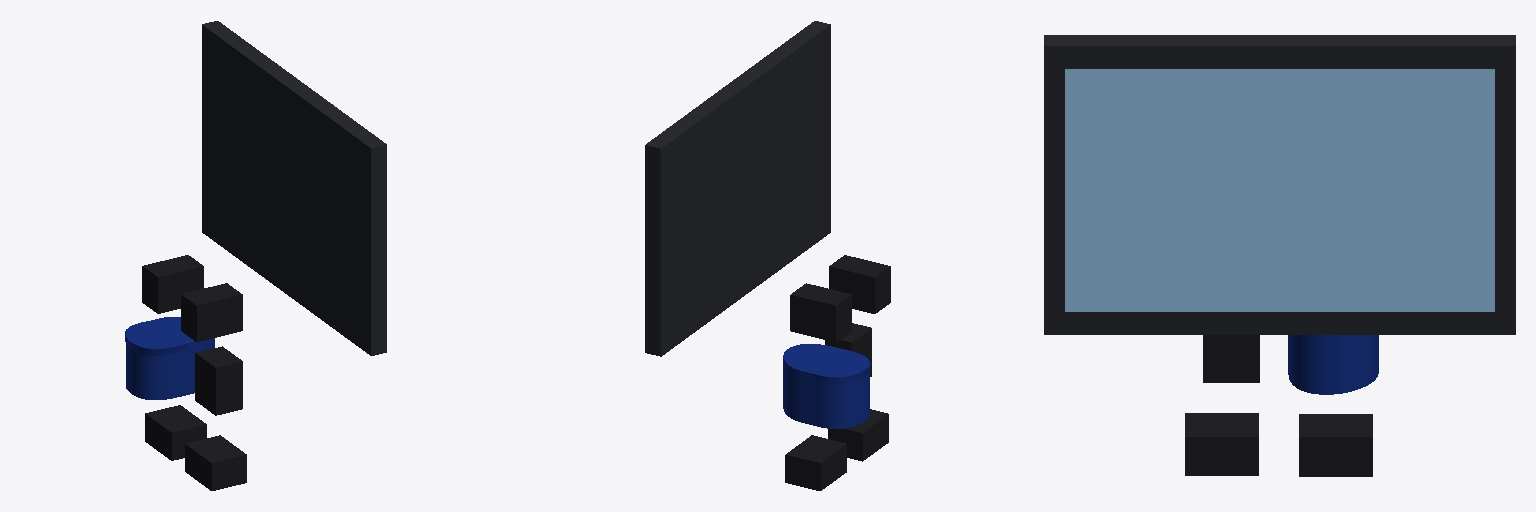
The robot description file, URDF, robot "haetburi":
<?xml version="1.0"?>
<!-- Haetburi biped (v15_xl330) - generated by tools/build_model.py, do not edit by hand -->
<robot name="haetburi">
  <mujoco>
    <compiler meshdir="." balanceinertia="true" discardvisual="false" strippath="false" fusestatic="false"/>
  </mujoco>
  <material name="display"><color rgba="0.18 0.19 0.21 1"/></material>
  <material name="screen"><color rgba="0.62 0.80 0.95 1"/></material>
  <material name="shell"><color rgba="0.106 0.216 0.541 1"/></material>
  <material name="motor"><color rgba="0.15 0.15 0.17 1"/></material>
  <material name="foot"><color rgba="0.25 0.25 0.28 1"/></material>
  <link name="world"/>
  <joint name="floating_base" type="floating">
    <parent link="world"/><child link="pelvis"/>
    <origin xyz="0 0 0" rpy="0 0 0"/>
  </joint>
  <link name="pelvis">
    <inertial>
      <origin xyz="-0.00796556 -6.46633e-05 0.0432049" rpy="0 0 0"/>
      <mass value="0.256018"/>
      <inertia ixx="0.00029492" ixy="1.66665e-07" ixz="0.000104236" iyy="0.00036951" iyz="-2.64269e-07" izz="0.00032519"/>
    </inertial>
    <visual><origin xyz="0 0 0" rpy="0 0 0"/><geometry><mesh filename="meshes/pelvis.stl"/></geometry><material name="shell"/></visual>
    <visual><origin xyz="0.00880265 0.0245857 0.033" rpy="0 0 0"/><geometry><box size="0.034 0.02 0.026"/></geometry><material name="motor"/></visual>
    <visual><origin xyz="0.00879735 -0.024889 0.033" rpy="0 0 0"/><geometry><box size="0.034 0.02 0.026"/></geometry><material name="motor"/></visual>
    <collision><origin xyz="0.0074988 -0.000146911 0.02623" rpy="0 0 0"/><geometry><box size="0.089907 0.119391 0.05246"/></geometry></collision>
  </link>
  <link name="torso">
    <inertial>
      <origin xyz="0.0216135 0.000104354 0.130744" rpy="0 0 0"/>
      <mass value="2.17652"/>
      <inertia ixx="0.0357799" ixy="-0.000105021" ixz="0.00644111" iyy="0.035995" iyz="-0.000101018" izz="0.0196717"/>
    </inertial>
    <visual><origin xyz="0 0 0" rpy="0 0 0"/><geometry><mesh filename="meshes/torso.stl"/></geometry><material name="shell"/></visual>
    <visual><origin xyz="0.0843686 0 0.0406669" rpy="0 0 0"/><geometry><box size="0.011868 0.217236 0.146854"/></geometry><material name="display"/></visual>
    <visual><origin xyz="0.0903026 0 0.0406669" rpy="0 0 0"/><geometry><box size="0.0004 0.198144 0.12384"/></geometry><material name="screen"/></visual>
    <collision><origin xyz="-0.0391719 -1.82352e-06 0.0288995" rpy="0 0 0"/><geometry><box size="0.183869 0.124676 0.122779"/></geometry></collision>
    <collision><origin xyz="0.0478332 0.0965728 0.0582346" rpy="0 0 0"/><geometry><sphere radius="0.0698567"/></geometry></collision>
    <collision><origin xyz="0.0481639 -0.0967208 0.0582346" rpy="0 0 0"/><geometry><sphere radius="0.0697895"/></geometry></collision>
    <collision><origin xyz="-0.00600387 0.000307043 0.117894" rpy="0 0 0"/><geometry><sphere radius="0.119818"/></geometry></collision>
    <collision><origin xyz="-0.010462 -0.000141163 0.173068" rpy="0 0 0"/><geometry><sphere radius="0.138234"/></geometry></collision>
    <collision><origin xyz="-0.0159306 -0.000232984 0.22825" rpy="0 0 0"/><geometry><sphere radius="0.136633"/></geometry></collision>
    <collision><origin xyz="-0.0124975 0.000984204 0.28343" rpy="0 0 0"/><geometry><sphere radius="0.118808"/></geometry></collision>
    <collision><origin xyz="-0.00739515 0.00779025 0.338644" rpy="0 0 0"/><geometry><sphere radius="0.0846824"/></geometry></collision>
    <collision><origin xyz="-0.0135526 -0.00257485 0.393809" rpy="0 0 0"/><geometry><sphere radius="0.0491437"/></geometry></collision>
    <collision><origin xyz="0.0843686 0 0.0406669" rpy="0 0 0"/><geometry><box size="0.011868 0.217236 0.146854"/></geometry></collision>
  </link>
  <link name="leg_l">
    <inertial>
      <origin xyz="0.00658411 -0.000760606 -0.0213574" rpy="0 0 0"/>
      <mass value="0.0857183"/>
      <inertia ixx="2.97836e-05" ixy="6.62866e-07" ixz="-1.79856e-06" iyy="3.43868e-05" iyz="2.49427e-07" izz="3.17523e-05"/>
    </inertial>
    <visual><origin xyz="0 0 0" rpy="0 0 0"/><geometry><mesh filename="meshes/leg_l.stl"/></geometry><material name="shell"/></visual>
    <visual><origin xyz="0.0157697 -0.00258 -0.018" rpy="0 0 0"/><geometry><box size="0.02 0.026 0.034"/></geometry><material name="motor"/></visual>
    <collision><origin xyz="0.00594238 -7.84141e-06 -0.01825" rpy="0 0 0"/><geometry><box size="0.0587847 0.0429672 0.0365"/></geometry></collision>
  </link>
  <link name="ankle_l">
    <inertial>
      <origin xyz="-0.00204419 -0.00242171 -0.023205" rpy="0 0 0"/>
      <mass value="0.0157343"/>
      <inertia ixx="4.92206e-06" ixy="0" ixz="0" iyy="3.34863e-06" iyz="0" izz="2.62238e-06"/>
    </inertial>
  </link>
  <link name="foot_l">
    <inertial>
      <origin xyz="0.000570459 0.00729492 -0.00247672" rpy="0 0 0"/>
      <mass value="0.0748228"/>
      <inertia ixx="1.96951e-05" ixy="-9.29192e-07" ixz="-2.12843e-07" iyy="2.7127e-05" iyz="-1.3687e-06" izz="3.21932e-05"/>
    </inertial>
    <visual><origin xyz="0 0 0" rpy="0 0 0"/><geometry><mesh filename="meshes/foot_l.stl"/></geometry><material name="shell"/></visual>
    <visual><origin xyz="0 0.0088 8.88178e-19" rpy="0 0 0"/><geometry><box size="0.026 0.034 0.02"/></geometry><material name="motor"/></visual>
    <collision><origin xyz="0 0 0" rpy="0 0 0"/><geometry><mesh filename="meshes/foot_l.stl"/></geometry></collision>
  </link>
  <link name="leg_r">
    <inertial>
      <origin xyz="0.00657188 0.000771822 -0.0213574" rpy="0 0 0"/>
      <mass value="0.0857097"/>
      <inertia ixx="2.98148e-05" ixy="-7.00541e-07" ixz="-1.79288e-06" iyy="3.43375e-05" iyz="-2.53598e-07" izz="3.1735e-05"/>
    </inertial>
    <visual><origin xyz="0 0 0" rpy="0 0 0"/><geometry><mesh filename="meshes/leg_r.stl"/></geometry><material name="shell"/></visual>
    <visual><origin xyz="0.0157576 0.00258 -0.018" rpy="0 0 0"/><geometry><box size="0.02 0.026 0.034"/></geometry><material name="motor"/></visual>
    <collision><origin xyz="0.00594676 1.24311e-05 -0.01825" rpy="0 0 0"/><geometry><box size="0.0587516 0.0430498 0.0365"/></geometry></collision>
  </link>
  <link name="ankle_r">
    <inertial>
      <origin xyz="-0.00240795 0.00220972 -0.023205" rpy="0 0 0"/>
      <mass value="0.0157343"/>
      <inertia ixx="4.92206e-06" ixy="0" ixz="0" iyy="3.34863e-06" iyz="0" izz="2.62238e-06"/>
    </inertial>
  </link>
  <link name="foot_r">
    <inertial>
      <origin xyz="0.000927024 -0.00706758 -0.0025199" rpy="0 0 0"/>
      <mass value="0.0746564"/>
      <inertia ixx="1.95107e-05" ixy="1.01942e-06" ixz="-2.354e-07" iyy="2.70292e-05" iyz="1.32726e-06" izz="3.20543e-05"/>
    </inertial>
    <visual><origin xyz="0 0 0" rpy="0 0 0"/><geometry><mesh filename="meshes/foot_r.stl"/></geometry><material name="shell"/></visual>
    <visual><origin xyz="0 -0.0088 8.88178e-19" rpy="0 0 0"/><geometry><box size="0.026 0.034 0.02"/></geometry><material name="motor"/></visual>
    <collision><origin xyz="0 0 0" rpy="0 0 0"/><geometry><mesh filename="meshes/foot_r.stl"/></geometry></collision>
  </link>
  <joint name="waist_fixed" type="fixed">
    <parent link="pelvis"/><child link="torso"/>
    <origin xyz="0 0 0.05246" rpy="0 0 0"/>
  </joint>
  <joint name="hip_yaw_l" type="revolute">
    <parent link="pelvis"/><child link="leg_l"/>
    <origin xyz="2.6481e-06 0.0245857 0" rpy="0 0 0"/>
    <axis xyz="0 0 1"/>
    <limit lower="-0.523599" upper="0.523599" effort="0.52" velocity="10.79"/>
    <dynamics damping="0.037142857142857144" friction="0.014857142857142859"/>
  </joint>
  <joint name="hip_yaw_r" type="revolute">
    <parent link="pelvis"/><child link="leg_r"/>
    <origin xyz="-2.6481e-06 -0.024889 0" rpy="0 0 0"/>
    <axis xyz="0 0 1"/>
    <limit lower="-0.523599" upper="0.523599" effort="0.52" velocity="10.79"/>
    <dynamics damping="0.037142857142857144" friction="0.014857142857142859"/>
  </joint>
  <joint name="ankle_pitch_l" type="revolute">
    <parent link="leg_l"/><child link="ankle_l"/>
    <origin xyz="0.0157697 -0.00258 -0.0268" rpy="0 0 0"/>
    <axis xyz="0 1 0"/>
    <limit lower="-0.261799" upper="0.261799" effort="0.52" velocity="10.79"/>
    <dynamics damping="0.037142857142857144" friction="0.014857142857142859"/>
  </joint>
  <joint name="ankle_pitch_r" type="revolute">
    <parent link="leg_r"/><child link="ankle_r"/>
    <origin xyz="0.0157576 0.00258 -0.0268" rpy="0 0 0"/>
    <axis xyz="0 1 0"/>
    <limit lower="-0.261799" upper="0.261799" effort="0.52" velocity="10.79"/>
    <dynamics damping="0.037142857142857144" friction="0.014857142857142859"/>
  </joint>
  <joint name="ankle_roll_l" type="revolute">
    <parent link="ankle_l"/><child link="foot_l"/>
    <origin xyz="-0.00408839 -0.00484343 -0.04641" rpy="0 0 0"/>
    <axis xyz="1 0 0"/>
    <limit lower="-0.261799" upper="0.261799" effort="0.52" velocity="10.79"/>
    <dynamics damping="0.037142857142857144" friction="0.014857142857142859"/>
  </joint>
  <joint name="ankle_roll_r" type="revolute">
    <parent link="ankle_r"/><child link="foot_r"/>
    <origin xyz="-0.00481591 0.00441945 -0.04641" rpy="0 0 0"/>
    <axis xyz="1 0 0"/>
    <limit lower="-0.261799" upper="0.261799" effort="0.52" velocity="10.79"/>
    <dynamics damping="0.037142857142857144" friction="0.014857142857142859"/>
  </joint>
</robot>

--- What the picture shows (computed from the rendered views, not written in the file) ---
The picture shows the robot from 3 angles, left to right: view 1: azimuth 30°, elevation 25°; view 2: azimuth 150°, elevation 25°; view 3: azimuth 270°, elevation 25°; orthographic projection.
Model haetburi with 9 links and 8 joints (6 revolute, 1 fixed, 1 floating), rooted at world, posed every joint at zero.
Visible links, largest first — view 1: torso, pelvis, leg_l, leg_r, foot_r, foot_l; view 2: torso, leg_l, pelvis, foot_l, foot_r, leg_r; view 3: torso, leg_l, foot_l, foot_r, leg_r.
Link boxes in pixels (x1,y1,x2,y2): torso: (202,21,386,355); pelvis: (142,255,242,341); leg_l: (125,317,214,399); leg_r: (195,346,242,415); foot_r: (185,435,246,490); foot_l: (145,405,206,460); torso: (645,21,830,356); leg_l: (783,344,870,428); pelvis: (790,255,890,342); foot_l: (785,435,846,490); foot_r: (828,409,888,461); leg_r: (825,323,871,376); torso: (1044,35,1515,334); leg_l: (1288,335,1378,394); foot_l: (1299,414,1372,476); foot_r: (1185,413,1258,475); leg_r: (1203,335,1259,382).
Bounding box of the posed robot: 0.1139 × 0.2172 × 0.2498 m (x, y, z).
1 mesh visuals loaded from 6 distinct referenced files (1 binary STL); not drawn: 5 (reference not matched to a file when rendering).
